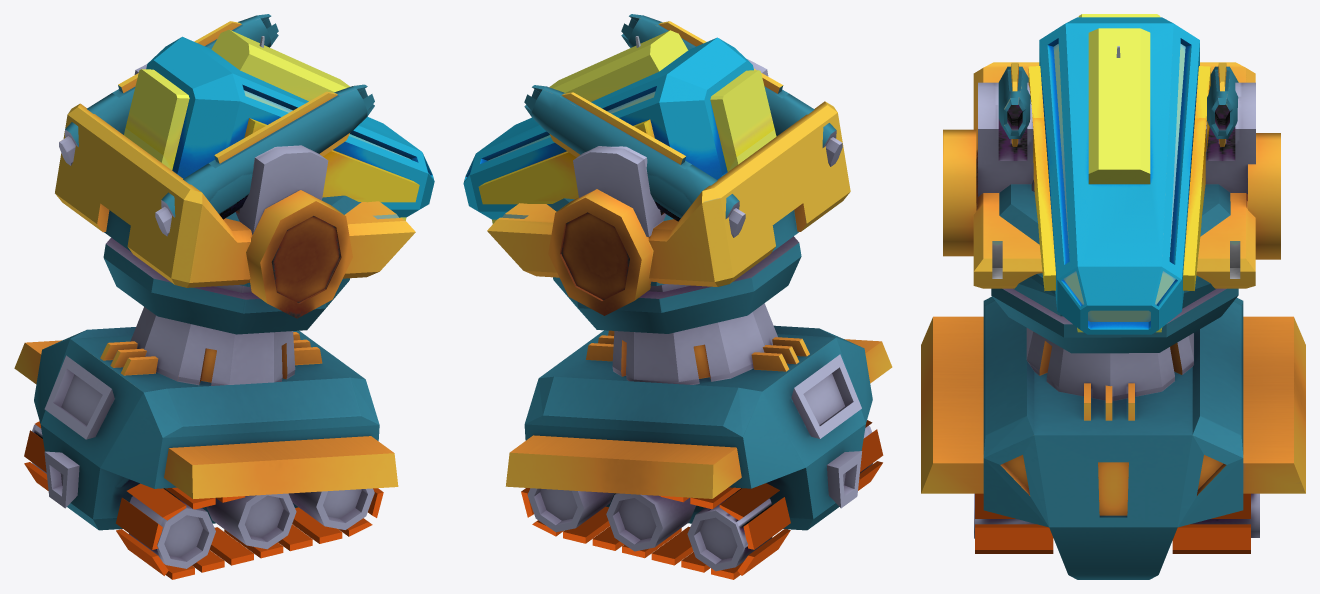
File: Player_moving_upgrade11.obj
The picture shows the model from 3 angles, left to right: view 1: azimuth 30°, elevation 25°; view 2: azimuth 150°, elevation 25°; view 3: azimuth 270°, elevation 25°; orthographic projection. The views are drawn at different scales.
Parts seen in each view (by area): view 1: Object015, Object014, Box009, Box017, Box016; view 2: Object015, Object014, Box009, Box016, Box017; view 3: Object015, Object014, Box017, Box016, Box009.
Part boxes in pixels (<box>): Object015: <box>14,29,434,530</box>; Object014: <box>59,14,374,236</box>; Box009: <box>32,424,374,568</box>; Box017: <box>115,483,383,579</box>; Box016: <box>24,421,48,490</box>; Object015: <box>463,30,892,530</box>; Object014: <box>524,14,842,237</box>; Box009: <box>527,425,872,571</box>; Box016: <box>521,483,790,579</box>; Box017: <box>858,420,883,490</box>; Object015: <box>921,14,1305,579</box>; Object014: <box>998,62,1238,146</box>; Box017: <box>975,493,1053,553</box>; Box016: <box>1172,493,1250,553</box>; Box009: <box>974,493,1259,538</box>.
Bounding box in the file's own units: 70.38 × 88.9 × 59.78.
5 materials, 3 textured.
